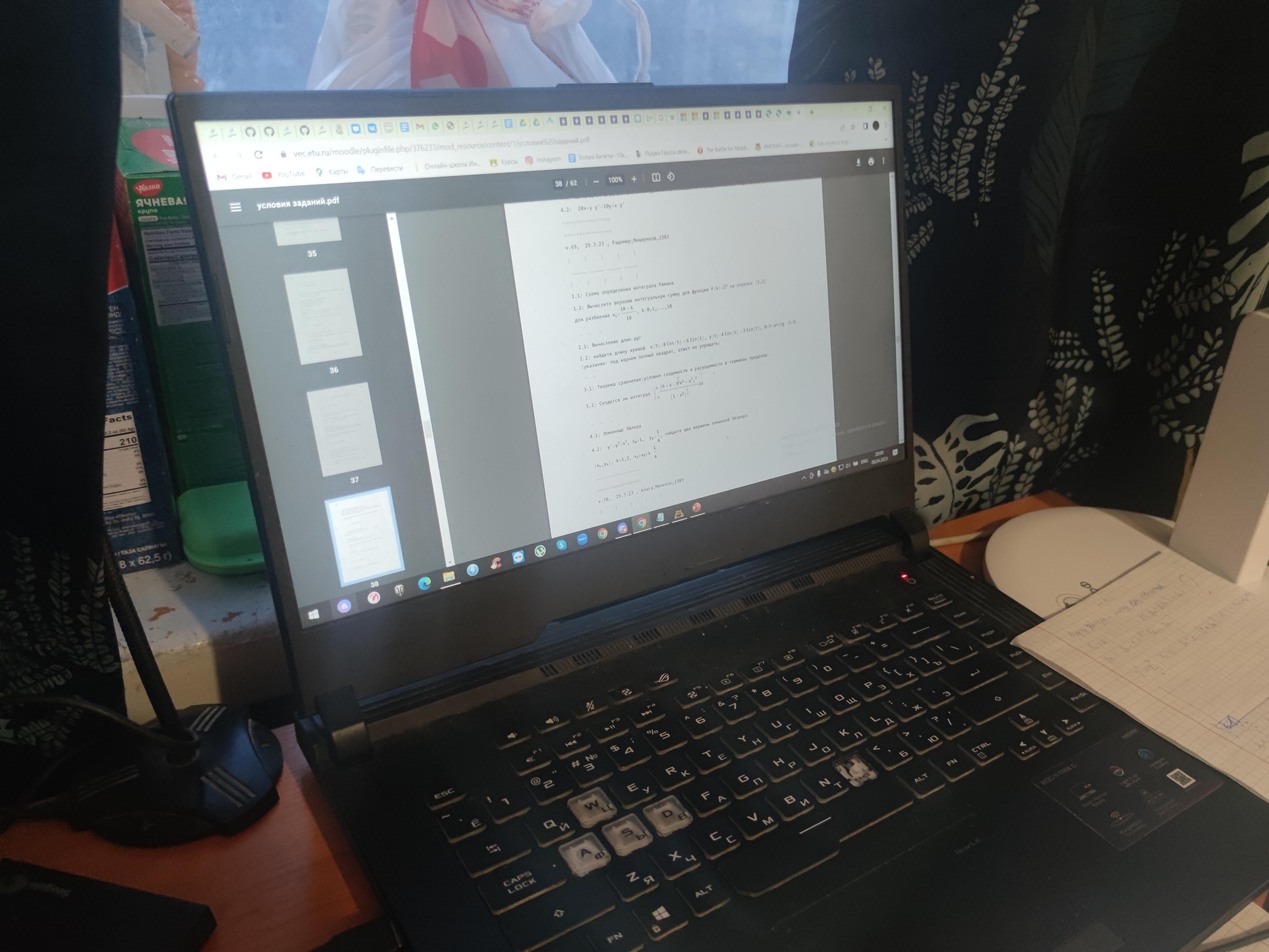monitor: (165, 76, 927, 721)
